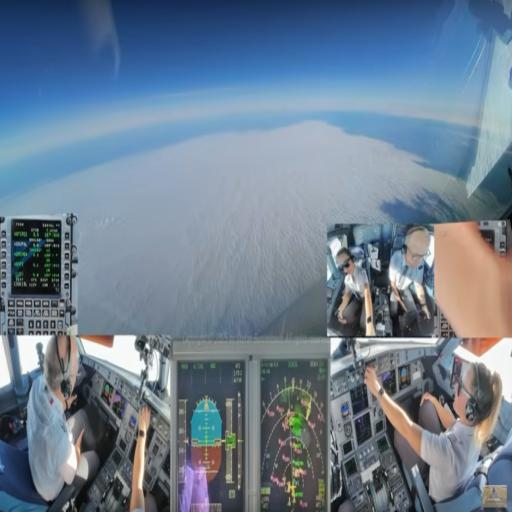Anamoly: (118, 383, 162, 510)
Female_Pilot: (356, 339, 506, 512)
Male_Pilot: (22, 333, 99, 508)
Pilot: (328, 228, 432, 343)
